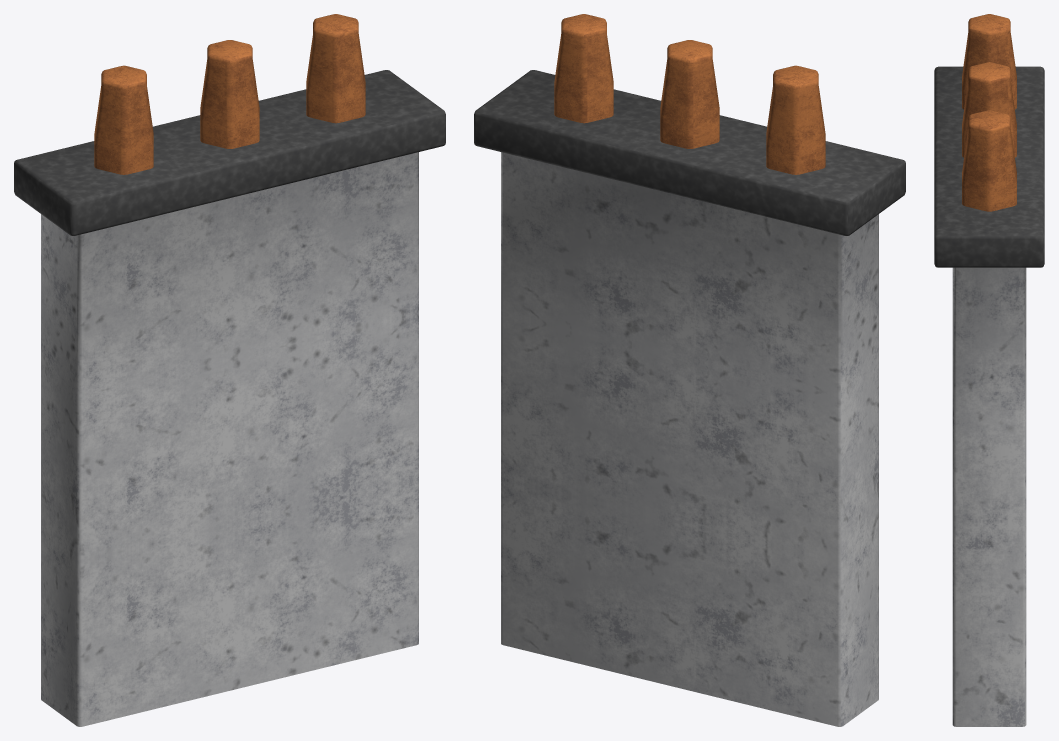
File: Chimney.fbx
3 renders of one model, left to right at view 1: azimuth 30°, elevation 25°; view 2: azimuth 150°, elevation 25°; view 3: azimuth 270°, elevation 25°, orthographic. The views are drawn at different scales.
Parts seen in each view (by area): view 1: Chimney; view 2: Chimney; view 3: Chimney.
Boxes of the visible parts, x1,y1,x2,y2 form: Chimney: (14,14,445,726); Chimney: (474,14,905,726); Chimney: (934,14,1044,726).
Bounding box in the file's own units: 30 × 174 × 110.
2 materials, 2 textured.
